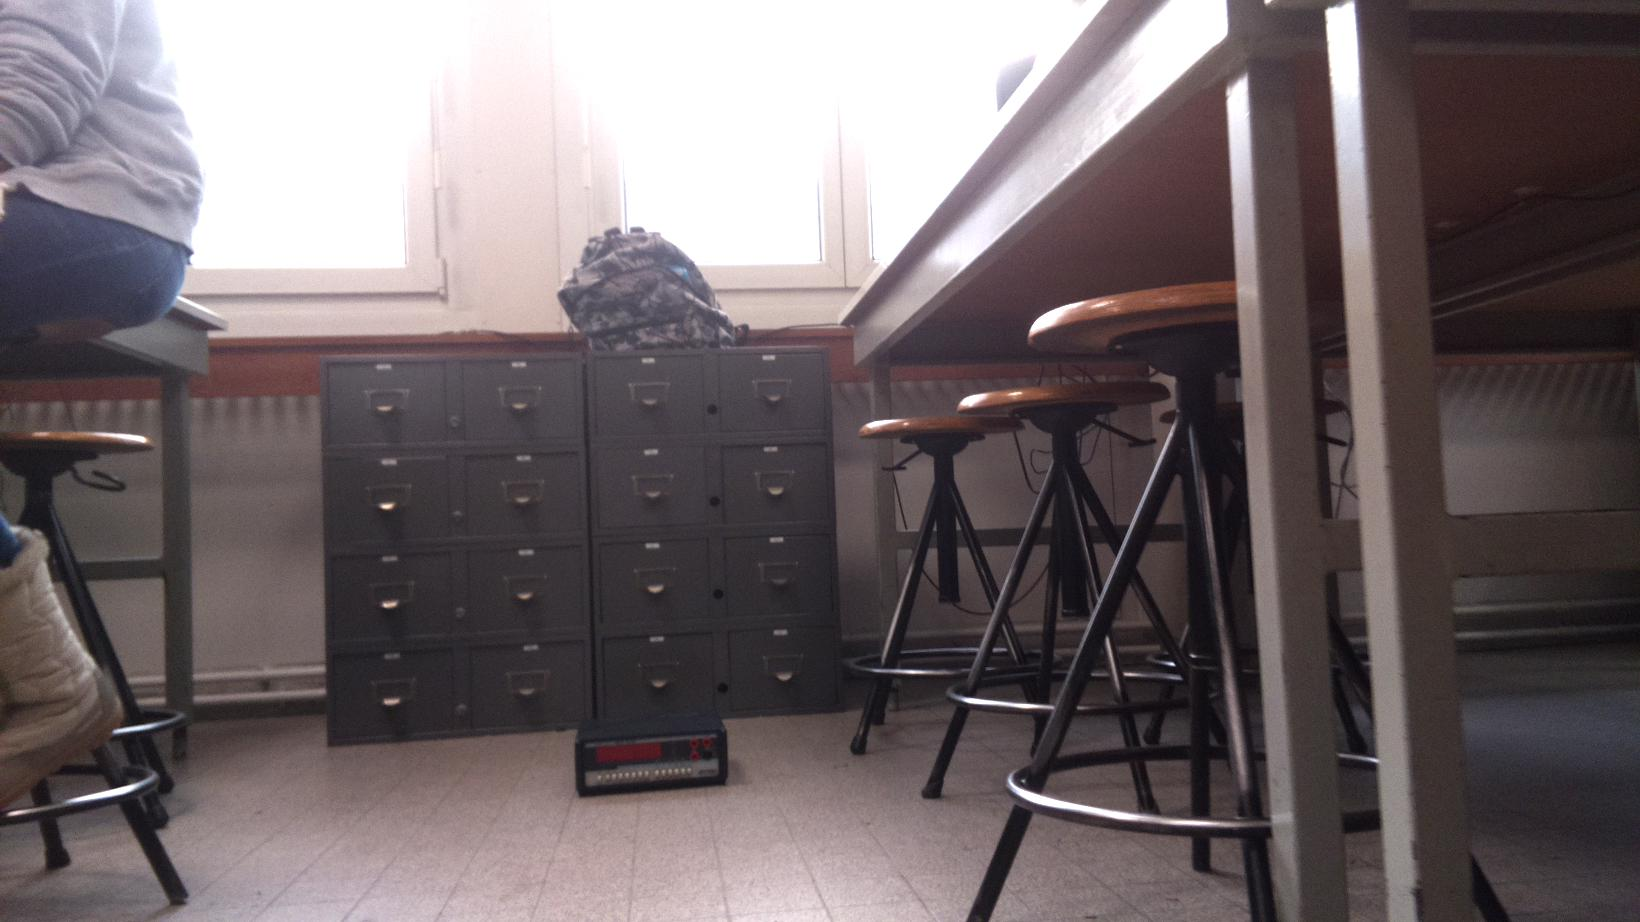big: (565, 227, 729, 348)
medium: (573, 716, 727, 790)
